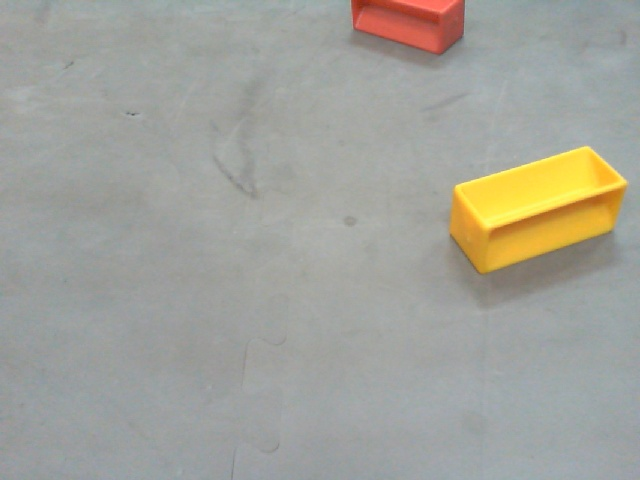RedSample: (347, 1, 465, 54)
YellowSample: (448, 142, 629, 276)
